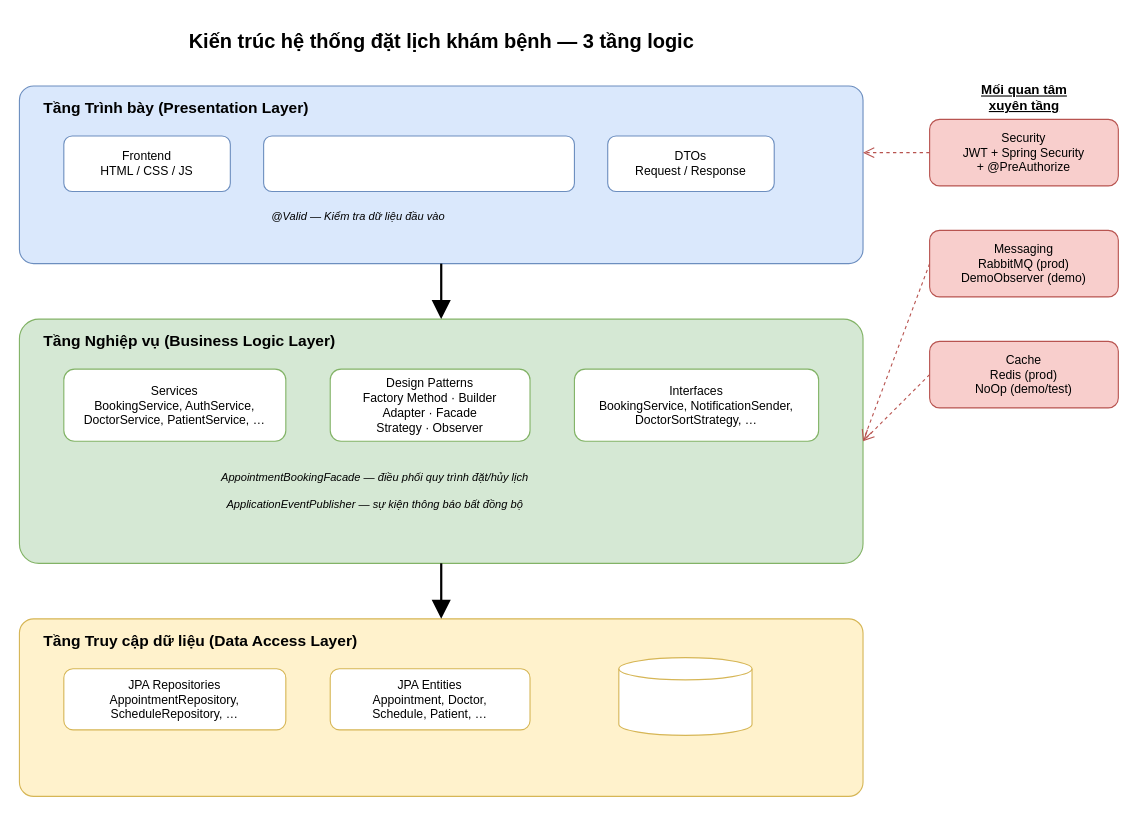
This 1138x816 diagram has some shape labels left out. The shapes that lost their labels are listed below. From the top down, each one's centre as x and y in pixels, then its label:
the point at 418,163: REST Controllers (BookingController, AuthController, …)
the point at 685,696: MySQL / H2 (Database)
